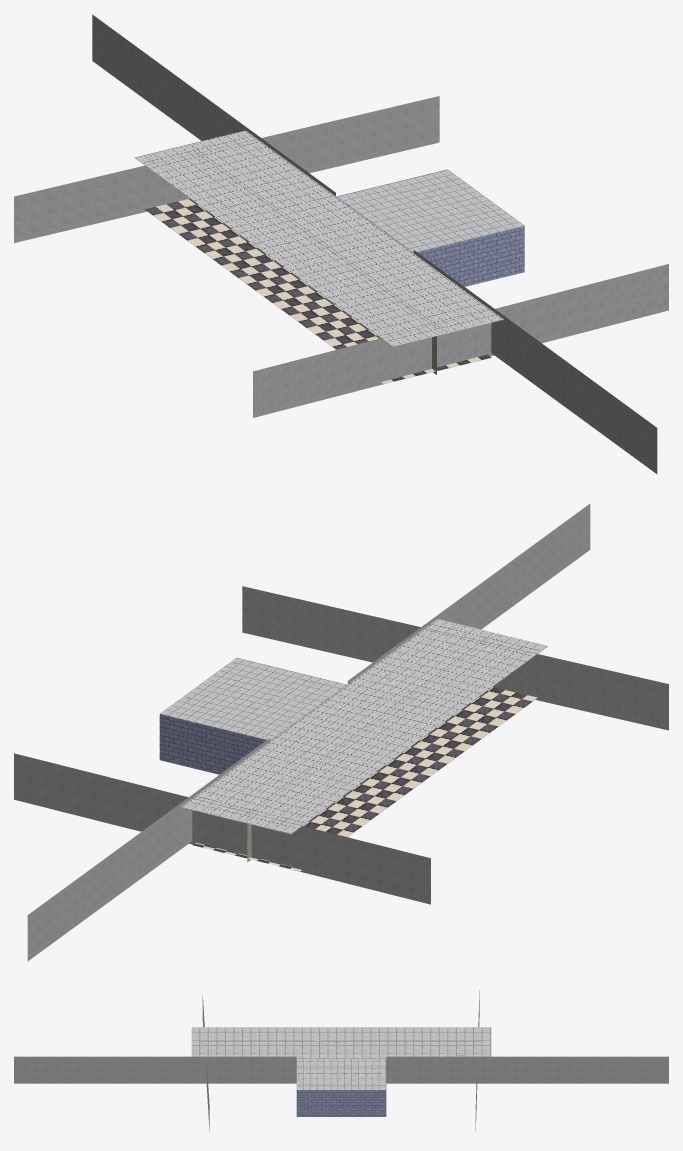
Rendered from fblaoffice.glb.
3 views of the same model, one above another, from view 1: azimuth 30°, elevation 25°; view 2: azimuth 150°, elevation 25°; view 3: azimuth 270°, elevation 25° (orthographic). The views are drawn at different scales.
Visible parts, largest first — view 1: SouthWall.002, Ceiling, WestWall; view 2: SouthWall.002, Ceiling, EastWall; view 3: SouthWall.002, Ceiling, SouthWall.
Part boxes in pixels (<box>): SouthWall.002: <box>14,14,668,473</box>; Ceiling: <box>337,169,523,252</box>; WestWall: <box>418,225,524,286</box>; SouthWall.002: <box>14,503,668,961</box>; Ceiling: <box>160,658,346,740</box>; EastWall: <box>160,714,266,774</box>; SouthWall.002: <box>14,990,668,1130</box>; Ceiling: <box>296,1058,386,1089</box>; SouthWall: <box>296,1090,386,1116</box>.
Size of the model in its own units: 75.81 by 8.6 by 176.
Materials: 14 (14 with a texture image).
